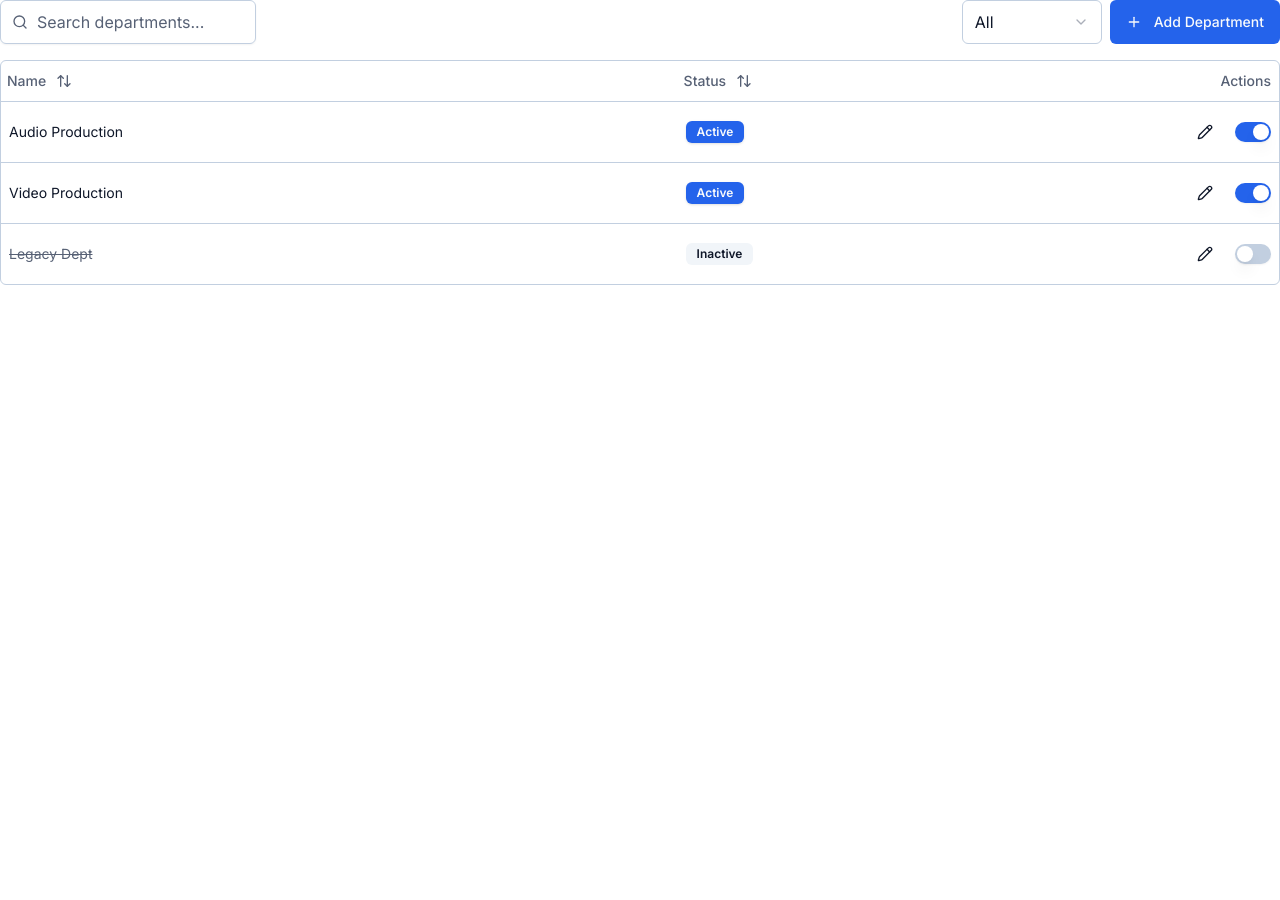
Test: DepartmentsListClient › Toggle Active Status (AC6) › shows confirmation dialog when deactivating
Find the toggle switch for Audio Production (first active department)
Click the switch named "Deactivate department" in the row of "Audio Production" at (1253,132), box [1235,122,1271,142]
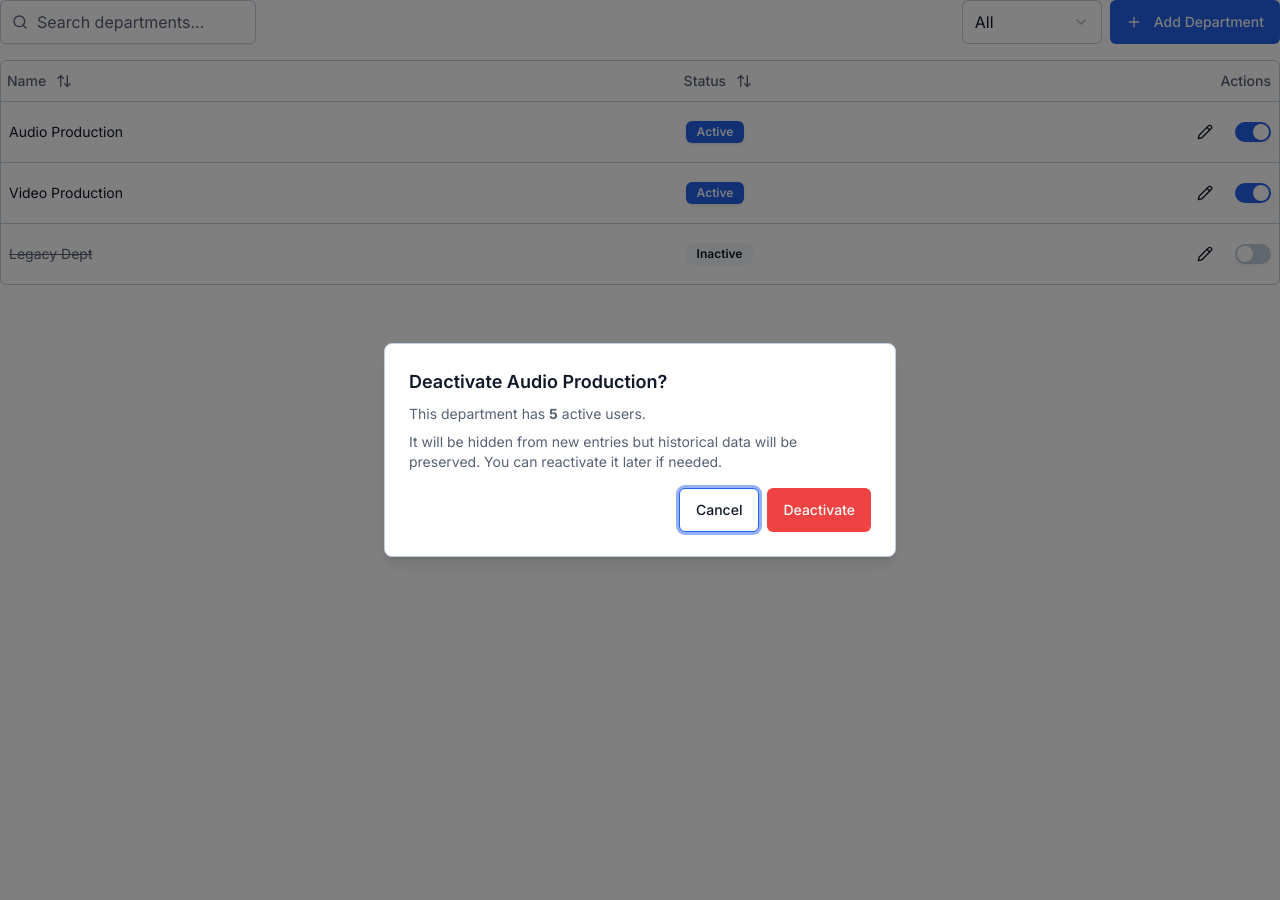
Now the dialog is shown, box [384,343,896,557]
Now the heading "Deactivate Audio Production?" is shown, box [409,371,667,392]
Now the text "5" is shown, box [549,405,558,422]
